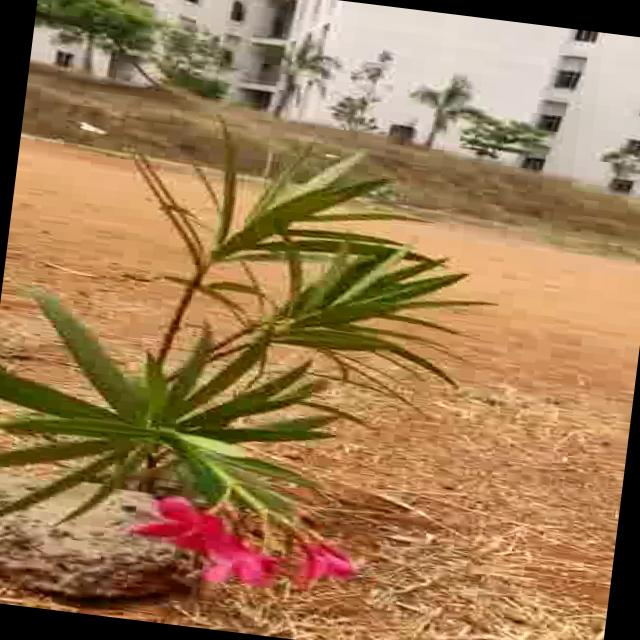OLEANDER: (0, 91, 526, 640)
